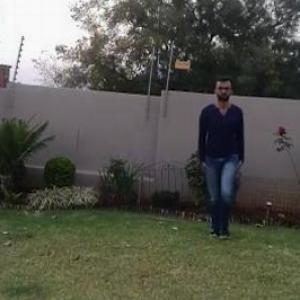follow: (190, 76, 244, 235)
